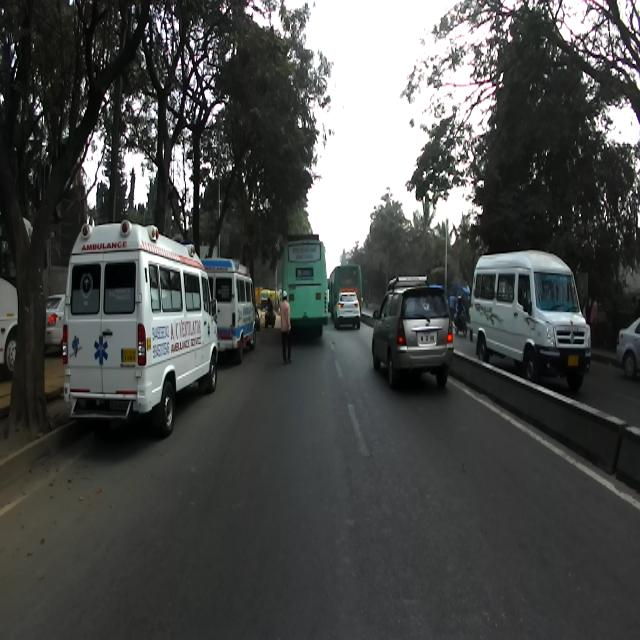bus ahead at: (64, 217, 218, 433)
car ahead at: (366, 274, 456, 395)
person ahead at: (280, 285, 294, 363)
tree ahead at: (4, 143, 61, 430)
